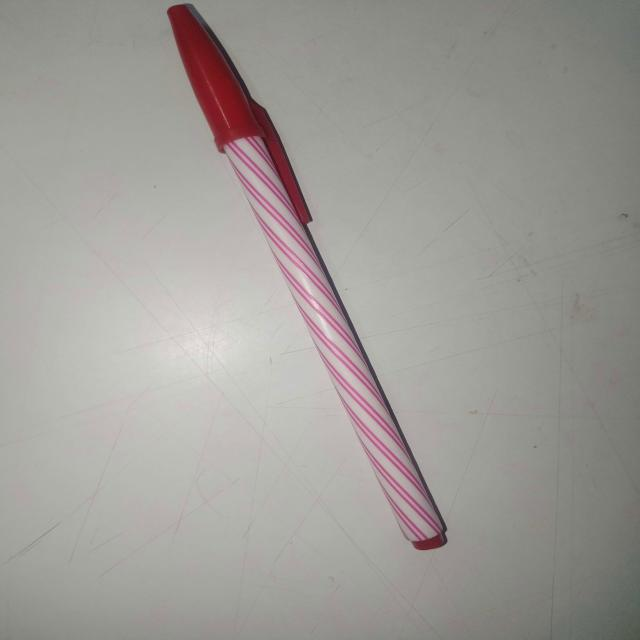pen_pencil: (136, 0, 502, 585)
